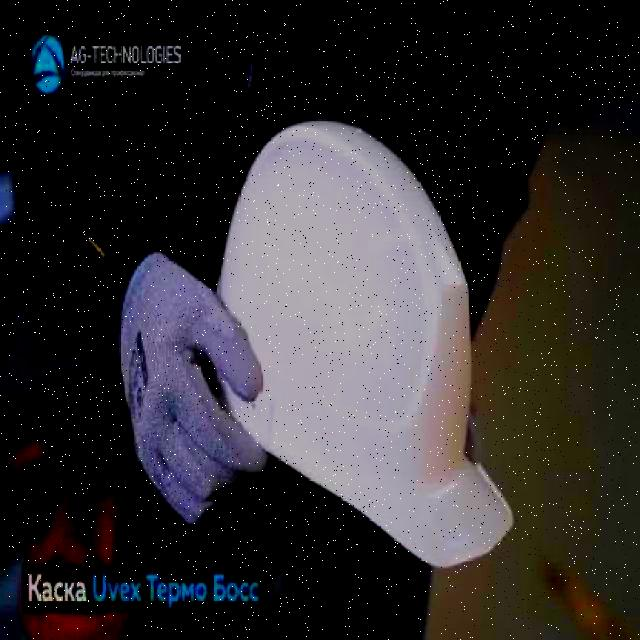Gloves: (118, 246, 268, 534)
Helmet: (207, 117, 515, 574)
